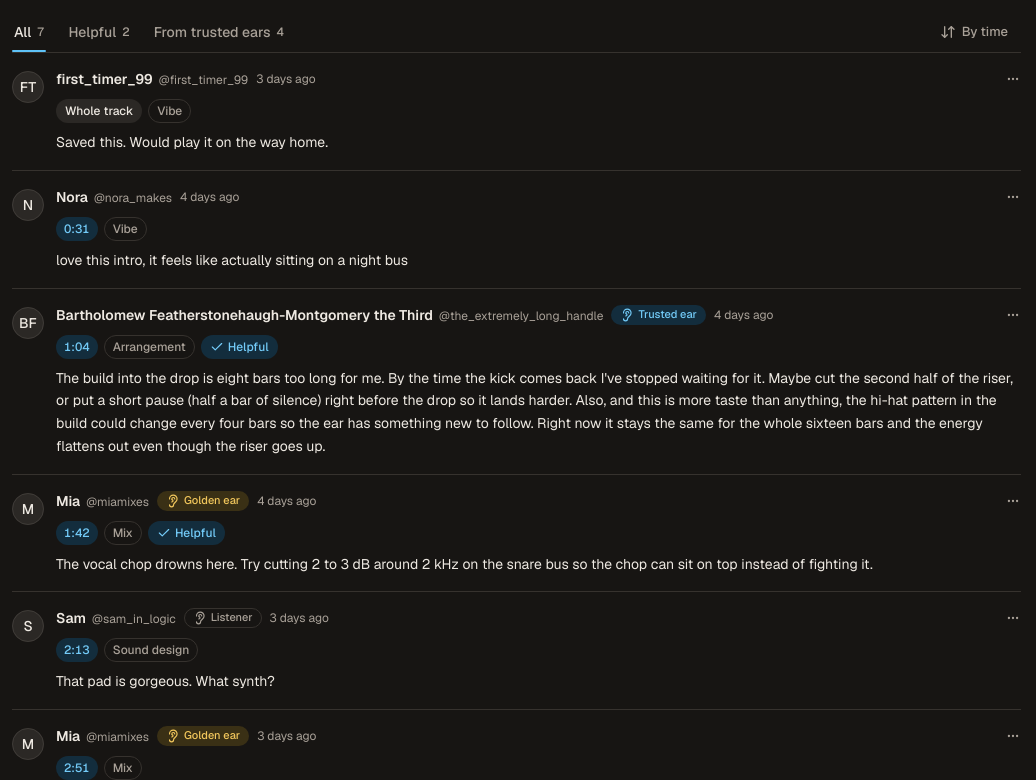
Scenario: CommentList filter › switches between All, Helpful and From trusted ears
Click the tab "Helpful 2" at (99,32), box [66,12,132,52]
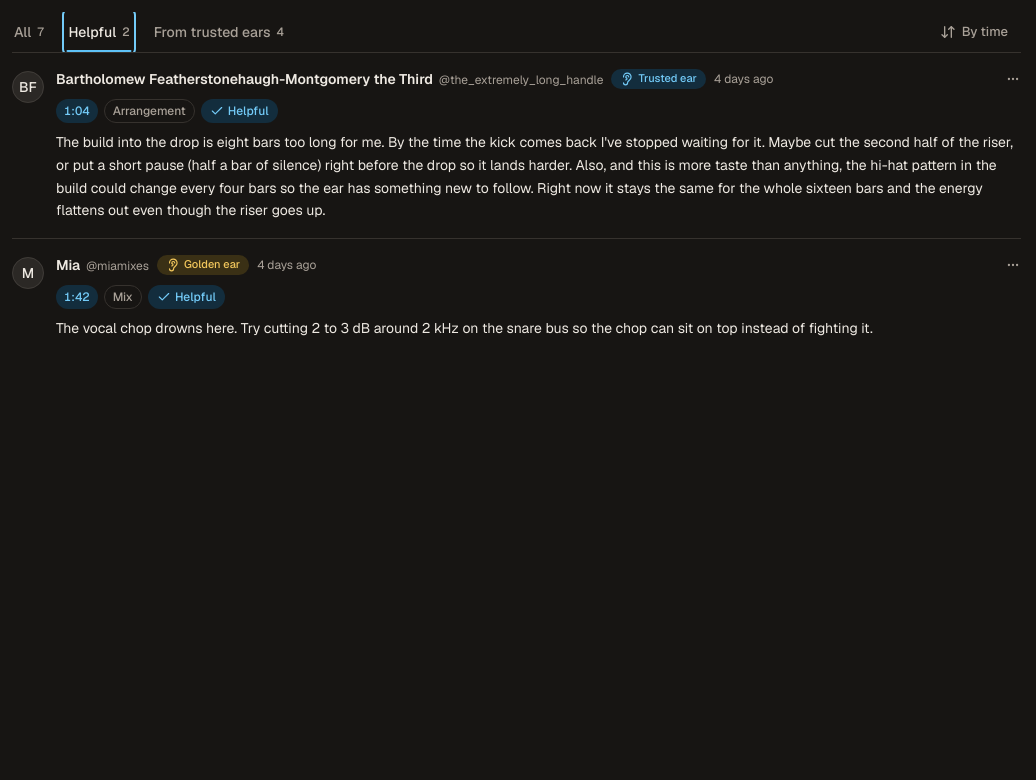
Expected: the number of list items is 2, [12,53,1021,239]; [12,239,1021,356]
Click the tab "From trusted ears 4" at (219,32), box [152,12,286,52]
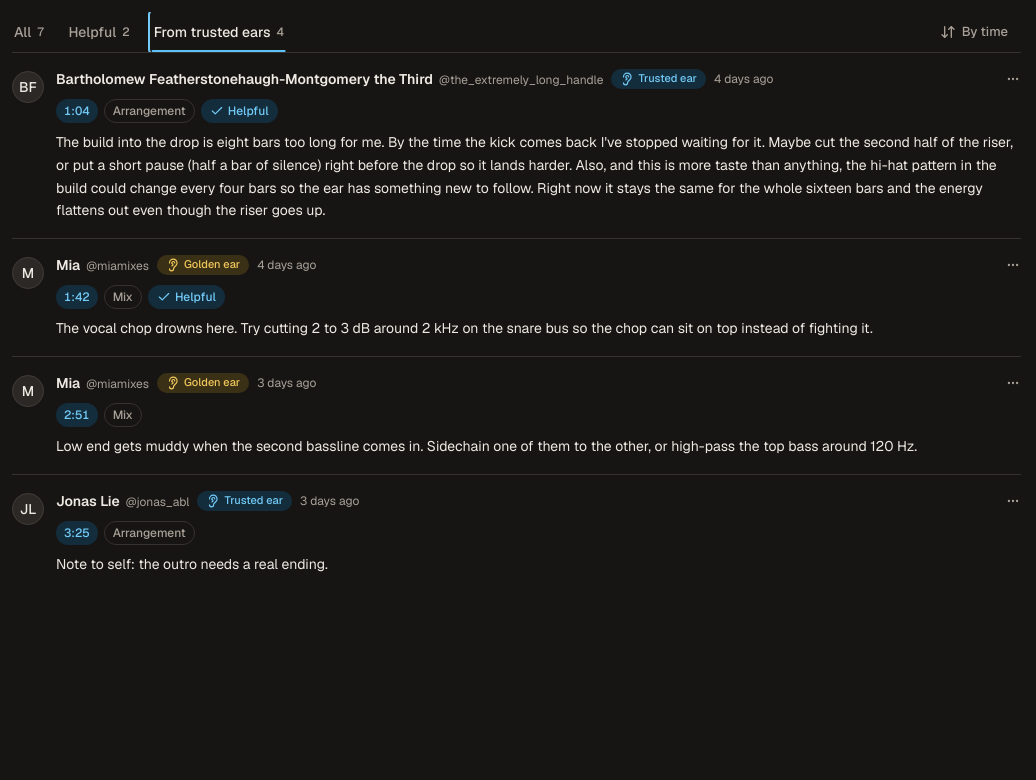
Expected: the link "Nora" is not shown
Expected: the number of list items is 4, [12,53,1021,239]; [12,239,1021,357]; [12,357,1021,475]; [12,474,1021,591]
